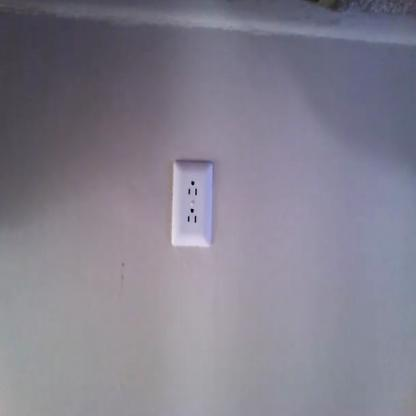OUTLET: (170, 158, 214, 248)
